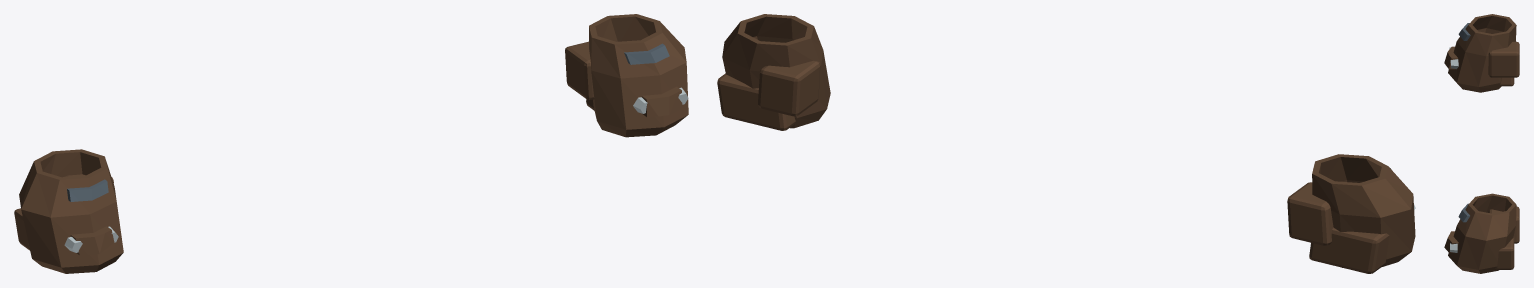
File: studded_hands-female-thickHide.glb
3 views of the same model, side by side, from view 1: azimuth 30°, elevation 25°; view 2: azimuth 150°, elevation 25°; view 3: azimuth 270°, elevation 25° (orthographic). The views are drawn at different scales.
Parts seen in each view (by area): view 1: Block hand armor -1, Block hand armor 1, Block thumb armor 1, Heavy hide binding Block hand armor 1, Heavy hide binding Block hand armor -1, Glove turned wrist seam 1, Glove turned wrist seam -1; view 2: Block hand armor -1, Block hand armor 1, Block thumb armor 1, Block hand curl armor -1, Block hand curl armor 1, Block thumb armor -1; view 3: Block hand armor 1, Block hand armor -1, Block thumb armor -1, Block hand curl armor 1, Block thumb armor 1, Heavy hide binding Block hand armor -1, Heavy hide binding Block hand armor 1, Block hand curl armor -1, Glove turned wrist seam 1, Glove turned wrist seam -1, Set rivet Block hand armor -1 1, Set rivet Block hand armor 1 1.
Part boxes in pixels (x1,y1,x2,y2): Block hand armor -1: [19, 149, 123, 273]; Block hand armor 1: [589, 14, 688, 137]; Block thumb armor 1: [565, 41, 594, 99]; Heavy hide binding Block hand armor 1: [641, 86, 682, 117]; Heavy hide binding Block hand armor -1: [70, 226, 115, 255]; Glove turned wrist seam 1: [624, 43, 669, 64]; Glove turned wrist seam -1: [67, 179, 108, 201]; Block hand armor -1: [1312, 154, 1415, 267]; Block hand armor 1: [722, 14, 830, 128]; Block thumb armor 1: [758, 60, 820, 116]; Block hand curl armor -1: [1309, 227, 1389, 273]; Block hand curl armor 1: [717, 73, 795, 130]; Block thumb armor -1: [1287, 182, 1333, 245]; Block hand armor 1: [1448, 193, 1516, 273]; Block hand armor -1: [1448, 14, 1516, 92]; Block thumb armor -1: [1488, 41, 1519, 77]; Block hand curl armor 1: [1495, 236, 1514, 269]; Block thumb armor 1: [1488, 206, 1519, 243]; Heavy hide binding Block hand armor -1: [1444, 46, 1457, 69]; Heavy hide binding Block hand armor 1: [1444, 231, 1458, 252]; Block hand curl armor -1: [1499, 77, 1514, 86]; Glove turned wrist seam 1: [1458, 203, 1469, 222]; Glove turned wrist seam -1: [1458, 23, 1470, 40]; Set rivet Block hand armor -1 1: [1450, 59, 1458, 69]; Set rivet Block hand armor 1 1: [1450, 243, 1457, 252].
Size of the model in its own units: 4.04 by 0.5018 by 0.6004.
